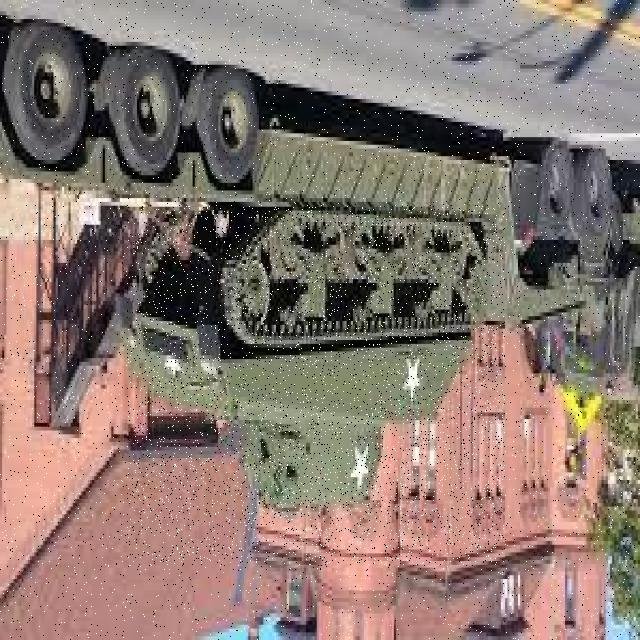MIL_MBT: (127, 205, 504, 566)
